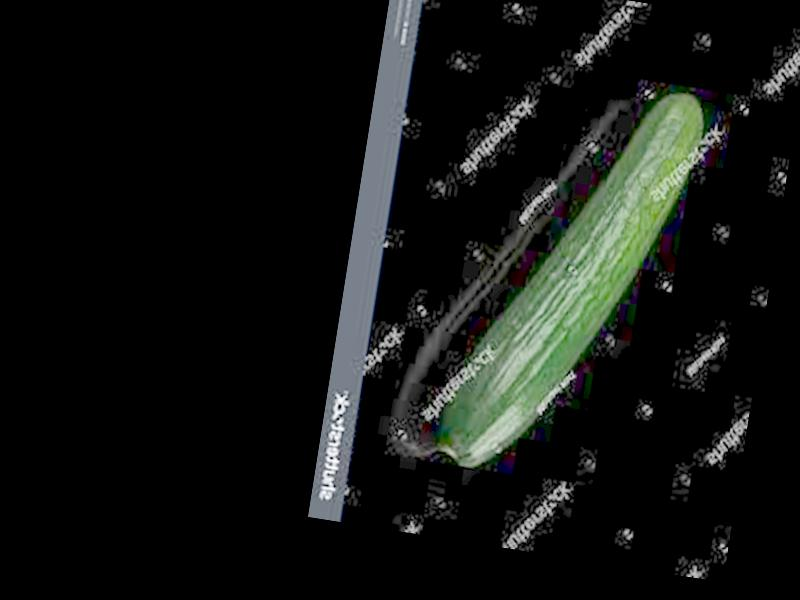Cucumber: (430, 61, 709, 494)
